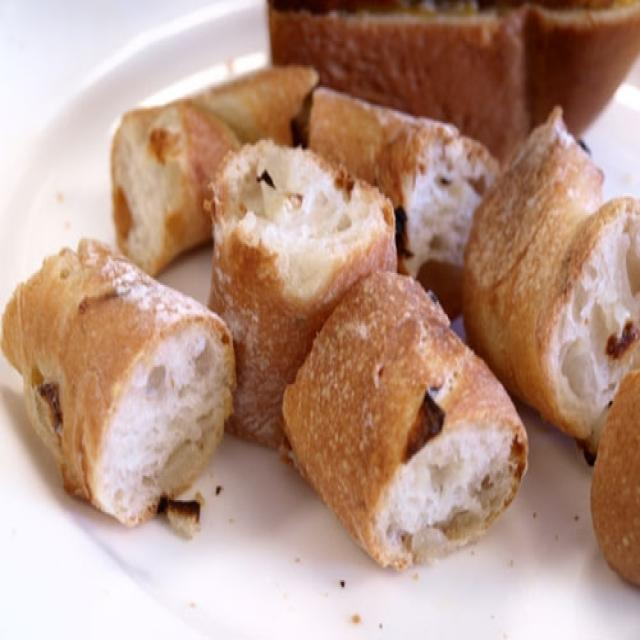面包点心: (5, 10, 634, 633)
